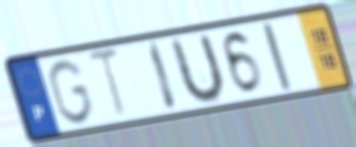6: (220, 29, 265, 96)
G: (45, 57, 96, 127)
I: (145, 39, 181, 113), (259, 20, 295, 94)
T: (84, 46, 130, 123)
U: (169, 30, 227, 108)
